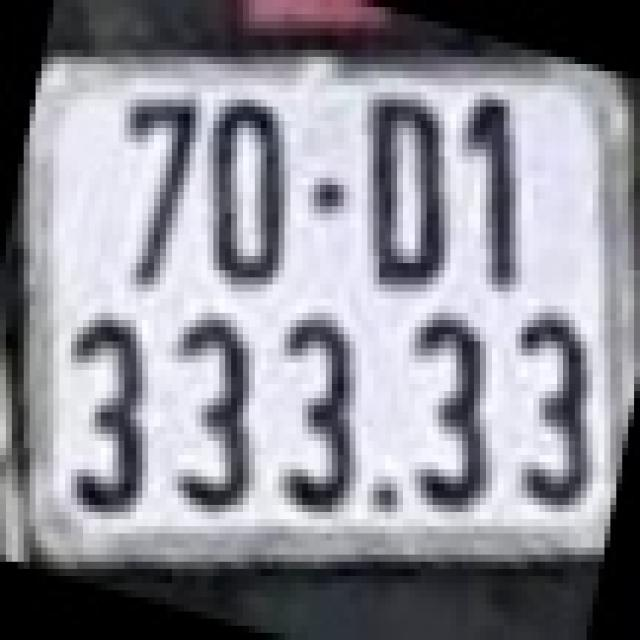0: (213, 100, 284, 284)
1: (462, 100, 522, 292)
3: (172, 313, 255, 512), (65, 313, 148, 512), (409, 313, 492, 505), (278, 313, 356, 512), (516, 313, 592, 505)
7: (124, 100, 196, 284)
D: (368, 100, 444, 284)
